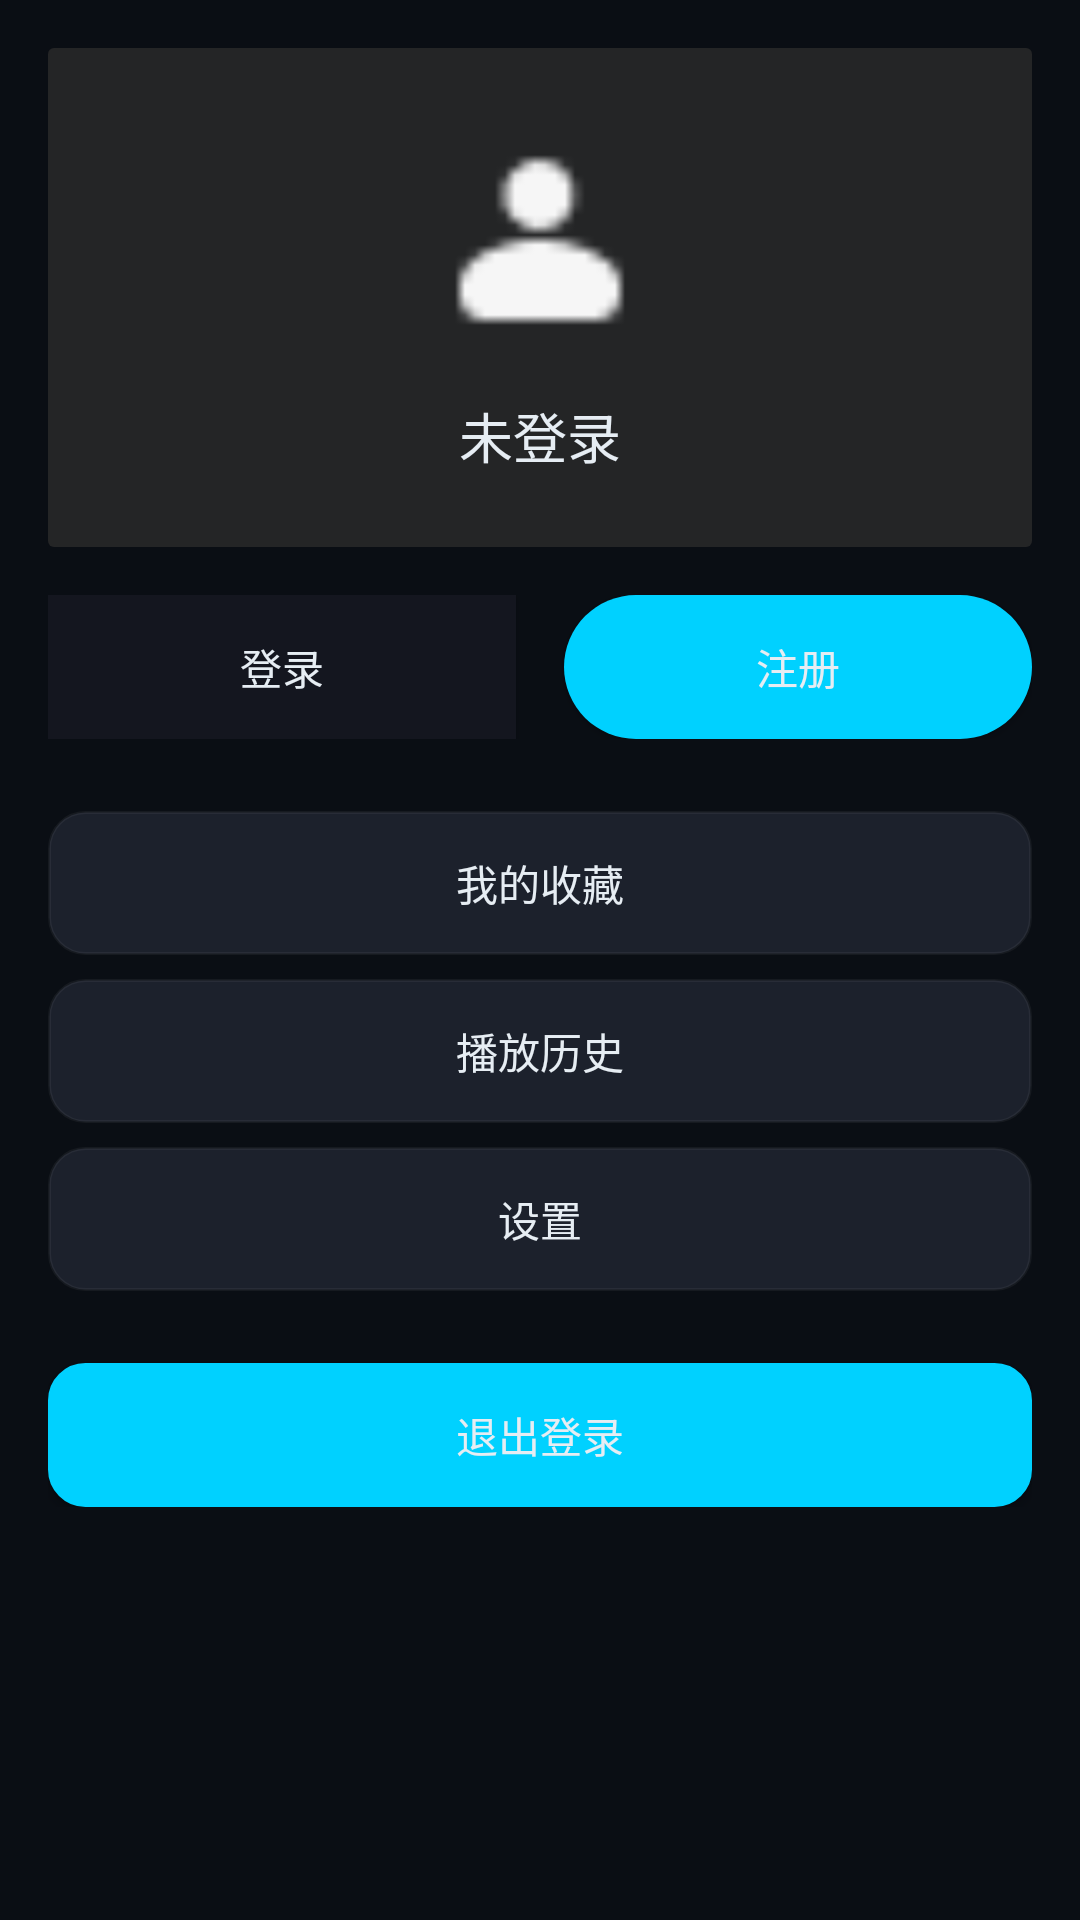

Point at icon controls on the screen. Image size 1080px x 1920px, points as (x=x, y=y).
用户头像: (x=540, y=240)
